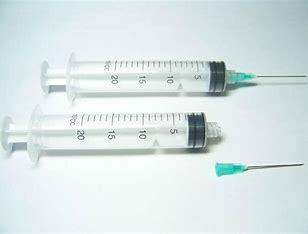Syringe: (38, 47, 308, 100), (3, 104, 260, 158), (212, 157, 306, 181)
